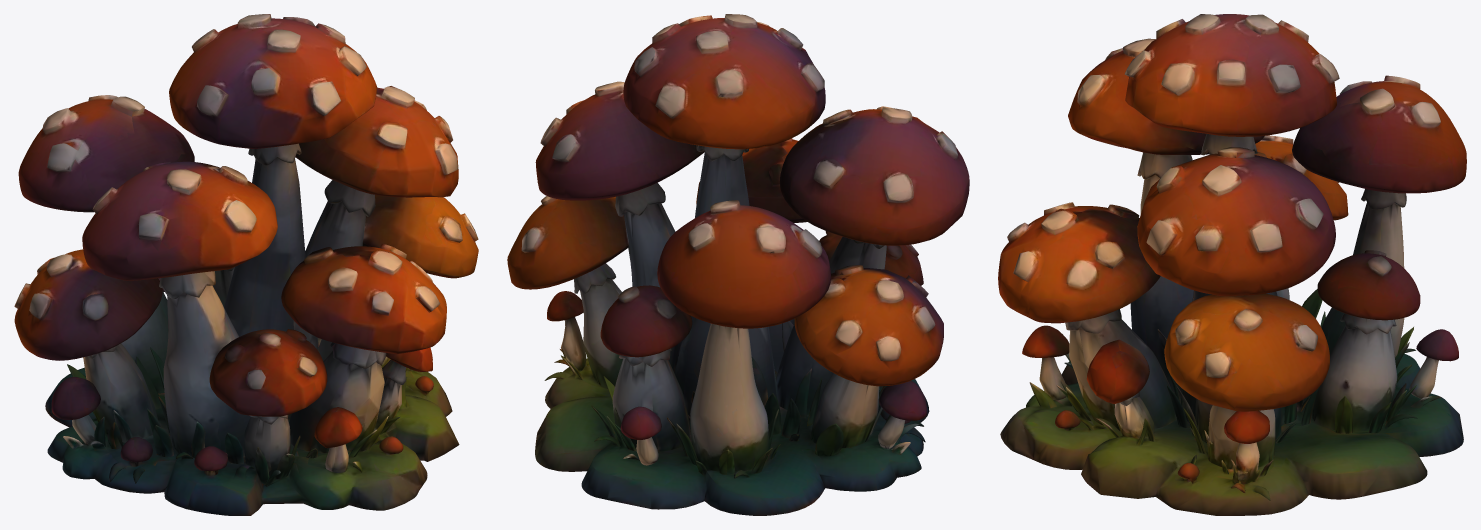
File: mushroom2.opt.glb
3 views of the same model, side by side, from view 1: azimuth 30°, elevation 25°; view 2: azimuth 150°, elevation 25°; view 3: azimuth 270°, elevation 25° (orthographic). The views are drawn at different scales.
Visible parts, largest first — view 1: node_0; view 2: node_0; view 3: node_0.
Part boxes in pixels (x1,y1,x2,y2): node_0: [14, 14, 478, 515]; node_0: [507, 14, 969, 515]; node_0: [998, 14, 1466, 515].
Bounding box in the file's own units: 0.9393 × 0.8396 × 0.8619.
Materials: 1 (1 with a texture image).
